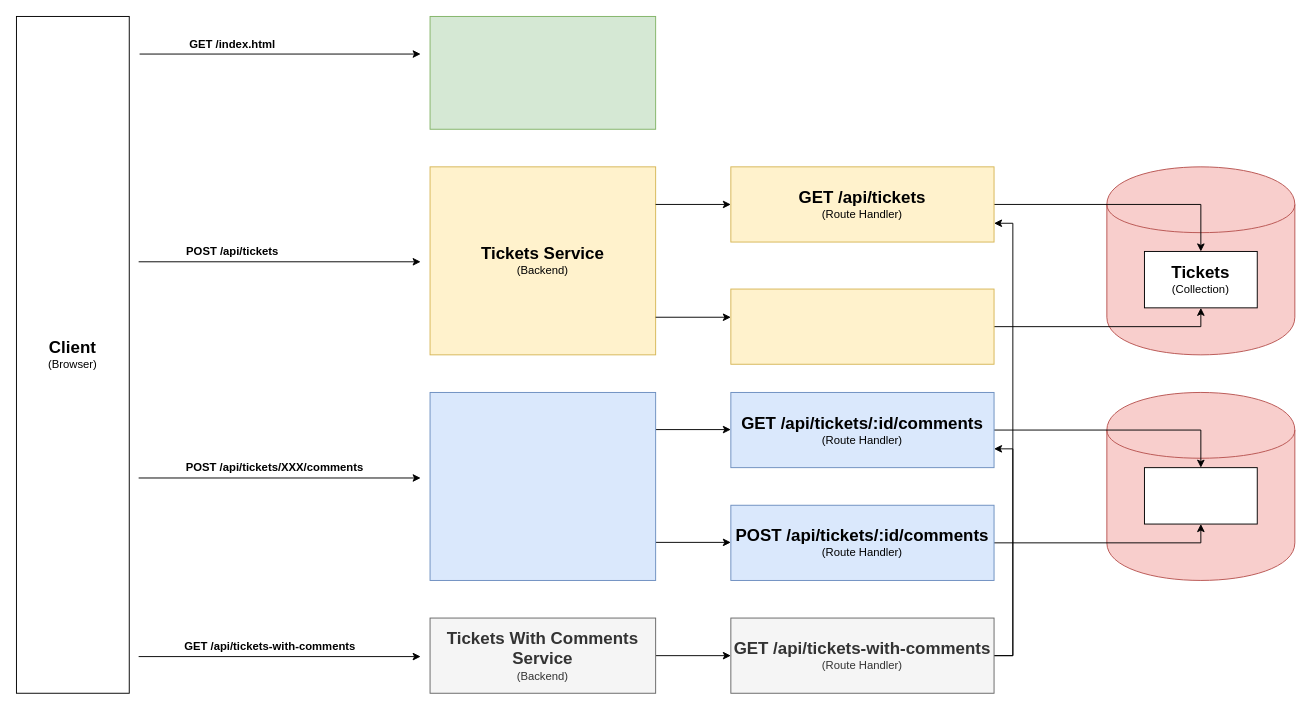
This 1311x710 diagram has some shape labels left out. Here are the shapes that lost their labels. From the top down, the box of each, then its label:
(429, 16, 656, 129): Server (React App)
(730, 288, 994, 364): POST /api/tickets (Route Handler)
(429, 392, 656, 580): Comments Service (Backend)
(1144, 467, 1257, 524): Comments (Collection)
